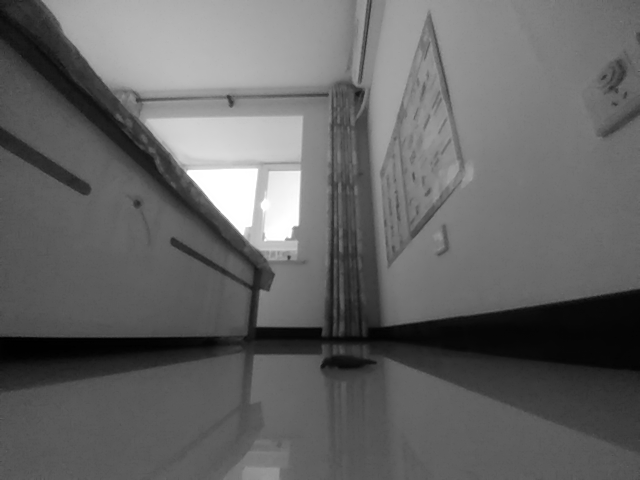curtain: (320, 82, 368, 342)
pet feces: (318, 355, 378, 373)
